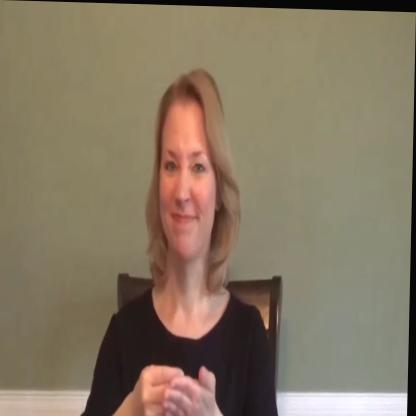Expensive: (119, 323, 232, 416)
